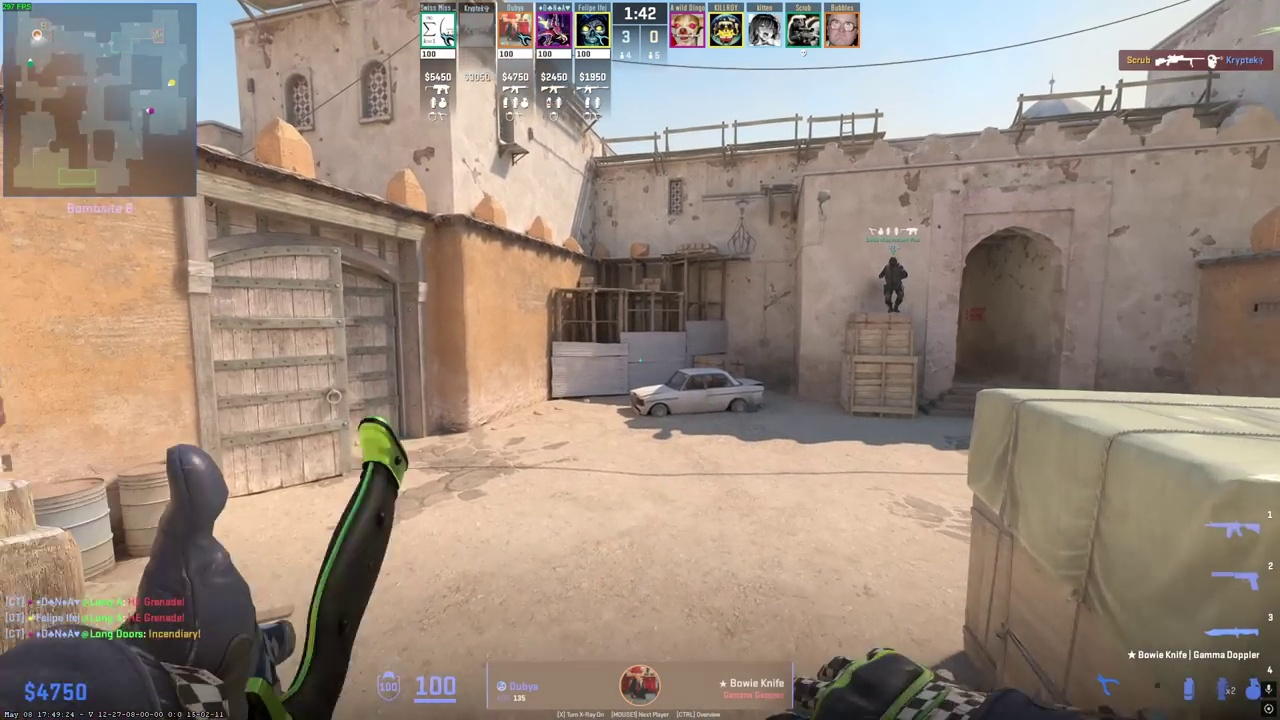CT: (881, 257, 906, 313)
